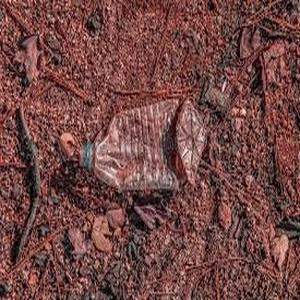Plastic: (74, 97, 218, 190)
